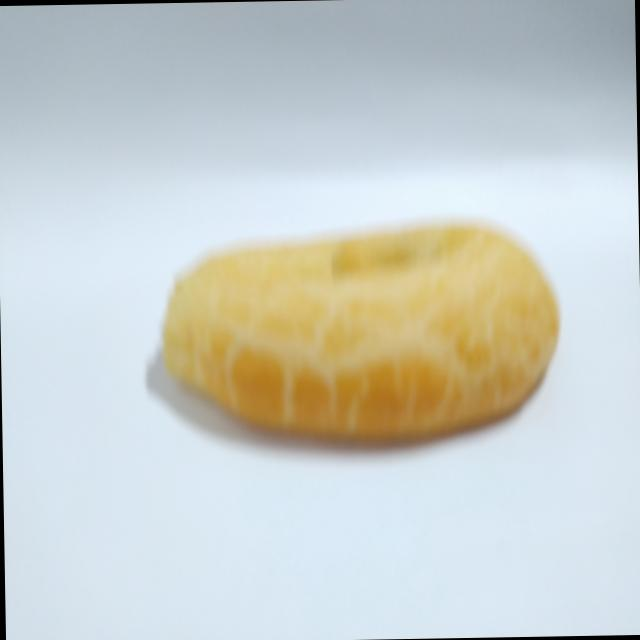Chipa: (142, 192, 566, 464)
